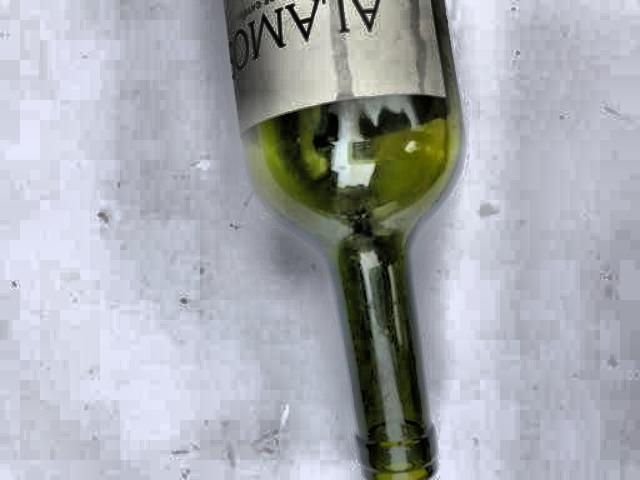Bottles: (171, 0, 484, 480)
